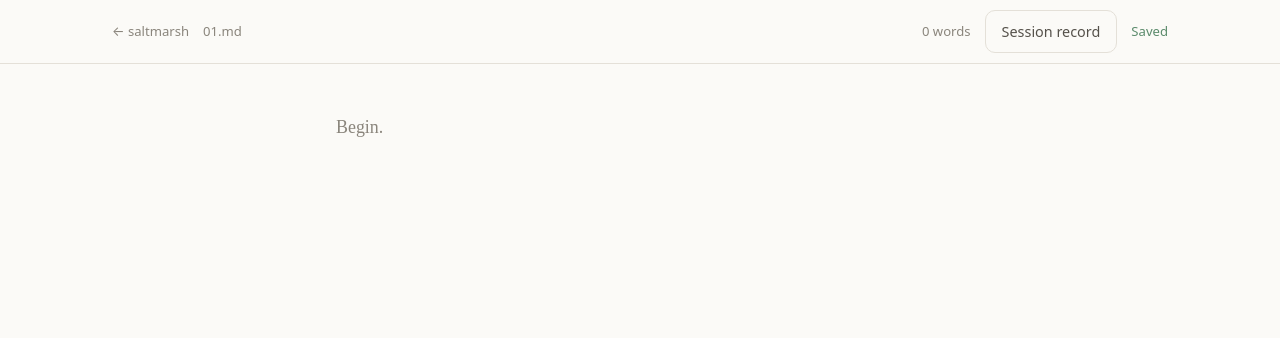
the session record panel › REPORTS A PASTE WITHOUT ACCUSING — pasting is normal
Click the button "Session record": (1051, 32) [985,10,1117,53]
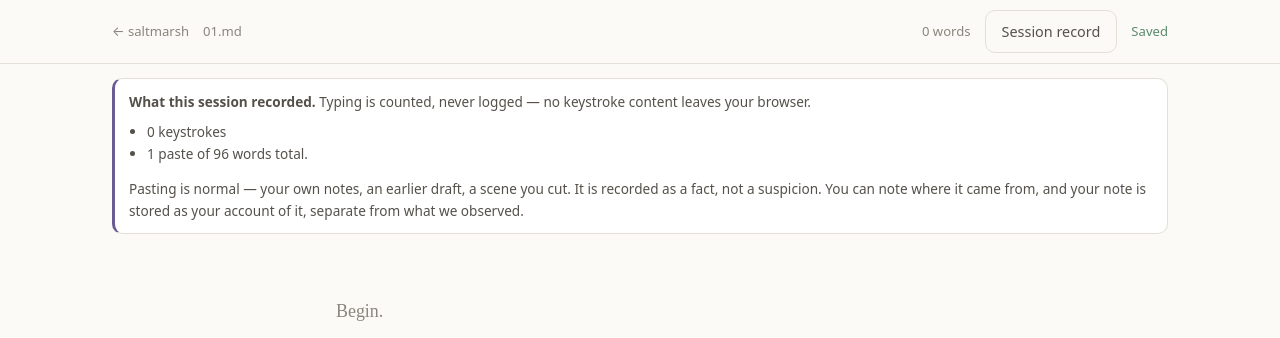
Check: the list item "1 paste of 96 words total." is shown, box [147,144,308,162]
Check: the text "Pasting is normal" shows "recorded as a fact, not a suspicion", box [129,179,1146,220]
Check: the text "Pasting is normal" shows "your account of it, separate from what we observed", box [129,179,1146,220]
